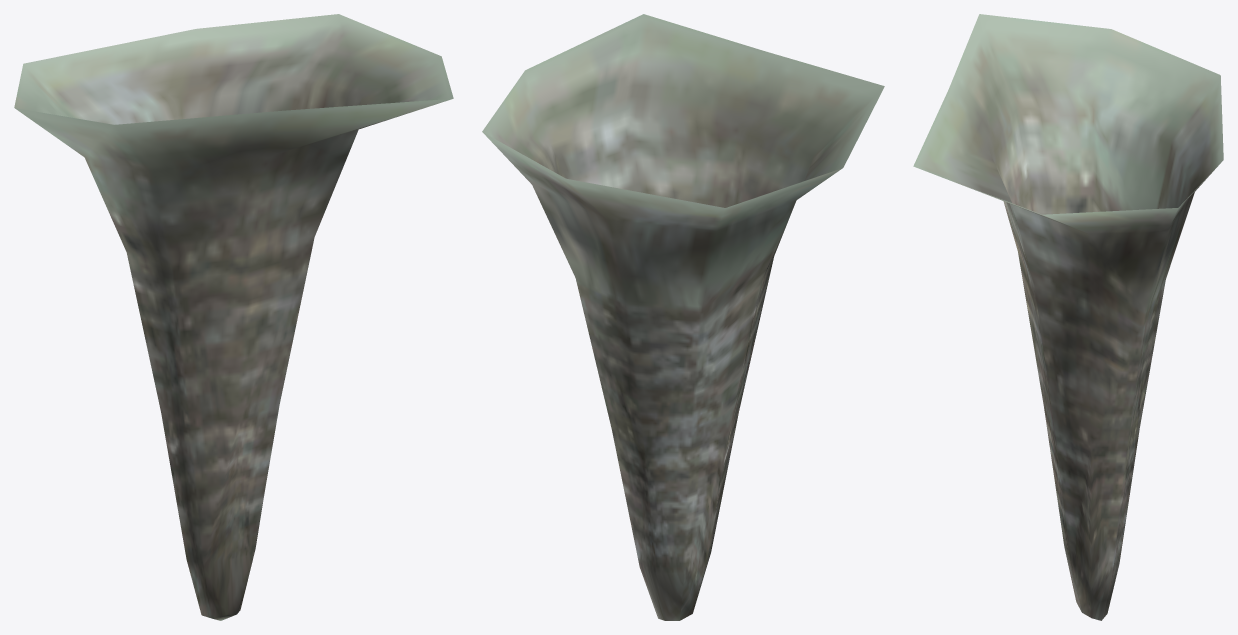
Rendered from TROLLHOLE02_PS-UPPERSTALAG13.fbx.
3 renders of one model, left to right at view 1: azimuth 30°, elevation 25°; view 2: azimuth 150°, elevation 25°; view 3: azimuth 270°, elevation 25°, orthographic. The views are drawn at different scales.
Parts seen in each view (by area): view 1: TROLLHOLE02_PS-UPPERSTALAG13; view 2: TROLLHOLE02_PS-UPPERSTALAG13; view 3: TROLLHOLE02_PS-UPPERSTALAG13.
Part boxes in pixels (left/top/right/bottom): TROLLHOLE02_PS-UPPERSTALAG13: left=14, top=14, right=453, bottom=620; TROLLHOLE02_PS-UPPERSTALAG13: left=482, top=14, right=884, bottom=620; TROLLHOLE02_PS-UPPERSTALAG13: left=913, top=14, right=1223, bottom=620.
Bounding box in the file's own units: 14203 × 20323 × 10854.
1 material, 1 textured.
